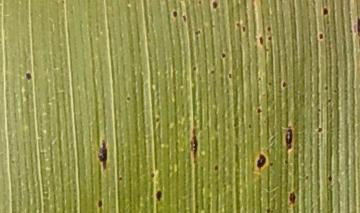tarspot: (93, 137, 112, 170), (187, 127, 200, 164), (283, 122, 296, 153), (253, 150, 267, 173), (153, 187, 165, 203), (287, 189, 297, 208), (21, 70, 34, 83), (169, 7, 180, 20), (320, 5, 330, 19), (325, 172, 335, 186), (254, 104, 264, 118), (96, 195, 105, 210), (210, 1, 221, 13), (211, 163, 222, 175), (279, 78, 289, 91), (316, 30, 326, 42), (315, 125, 325, 136), (218, 50, 228, 61)
